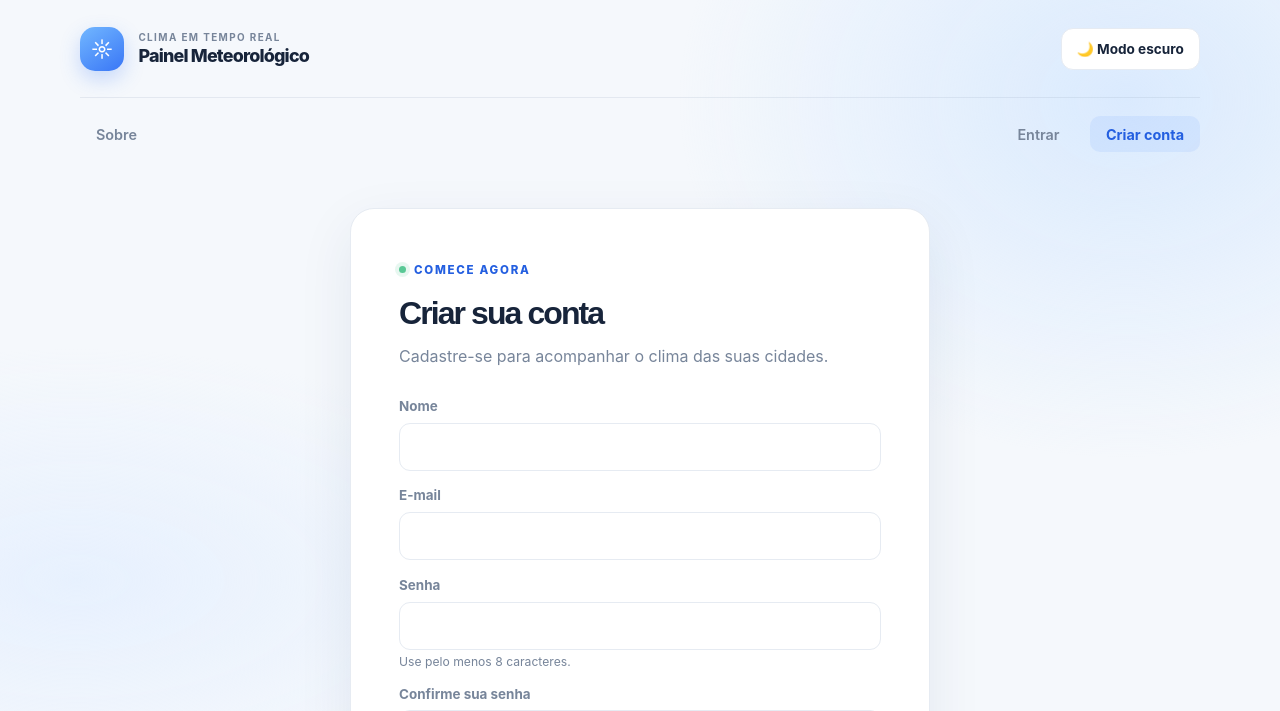
Test: Fluxo de autenticação (integração) › não envia cadastro quando as senhas são diferentes
Type "Pessoa Nova" into the field labelled "Nome".
click(640, 447); type("Pessoa Nova")  # box [399,423,881,471]
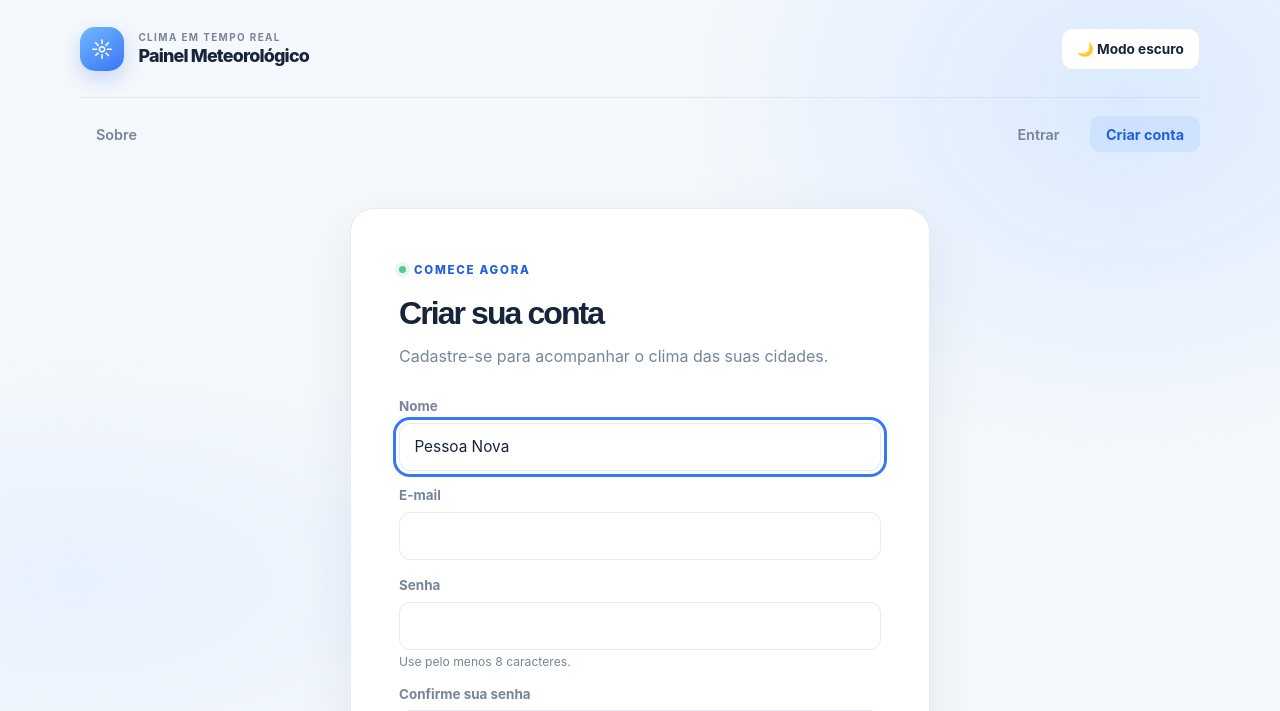
Type "nova@painel.com" into the field labelled "E-mail".
click(640, 536); type("nova@painel.com")  # box [399,512,881,560]
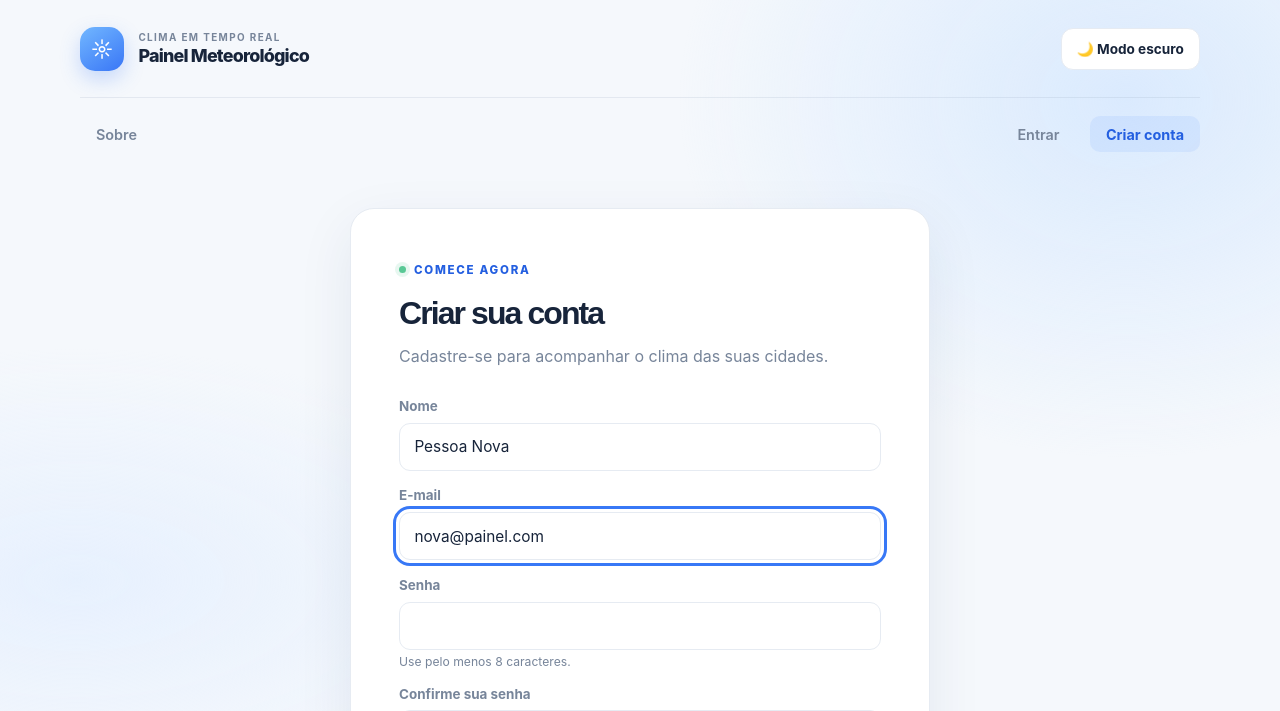
Type "senha-segura" into the password field labelled "Senha".
click(640, 626); type("senha-segura")  # box [399,602,881,650]
(page scrolled)
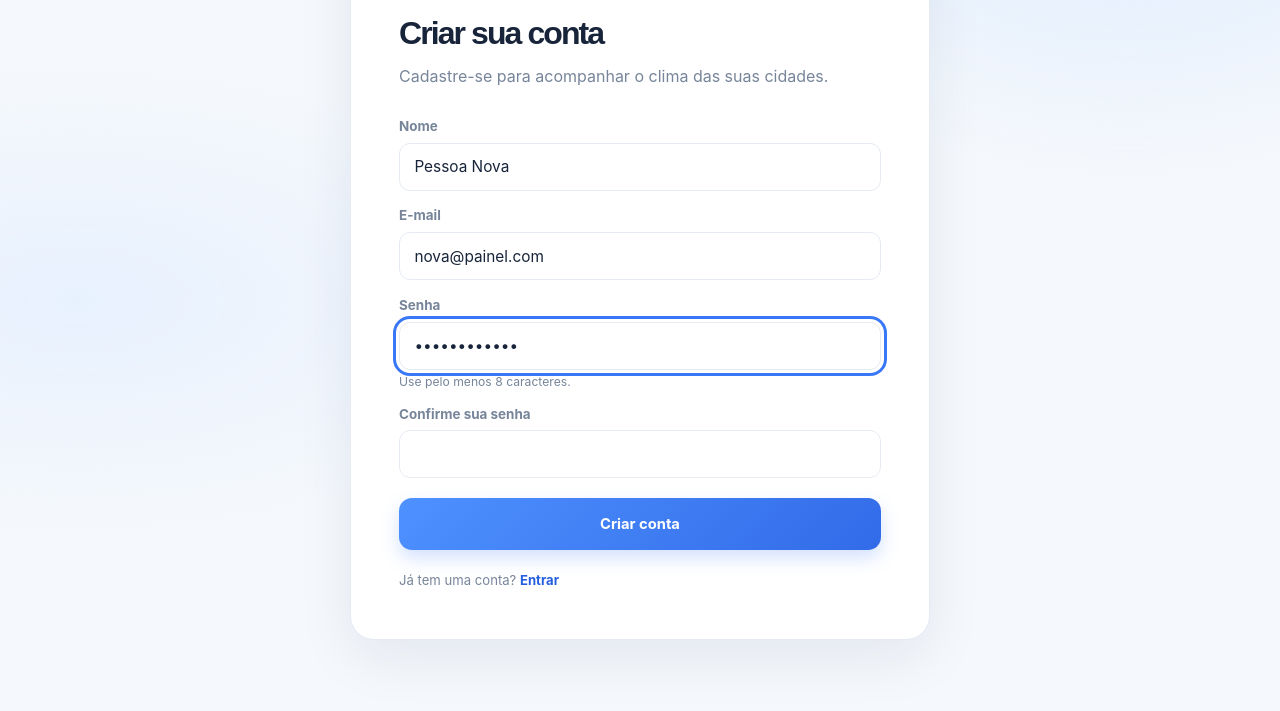
Type "outra-senha" into the password field labelled "Confirme sua senha".
click(640, 454); type("outra-senha")  # box [399,430,881,478]
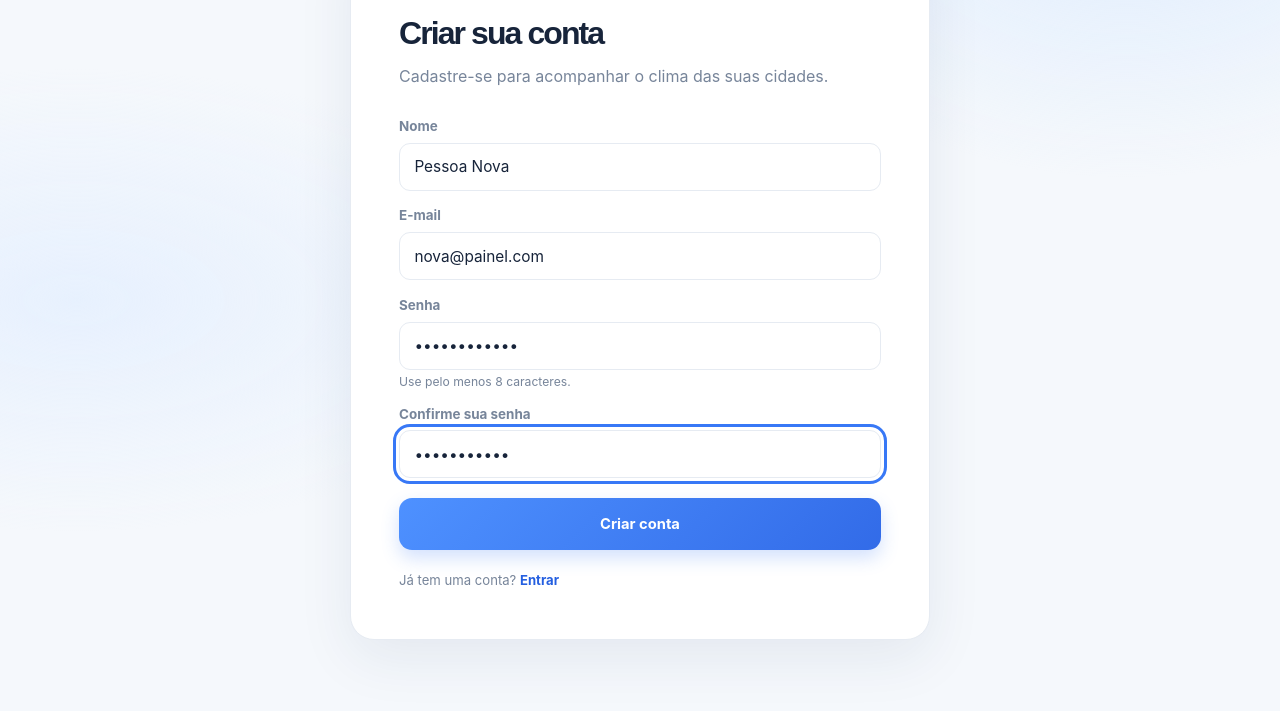
Click the button "Criar conta".
click(640, 524)  # box [399,498,881,550]
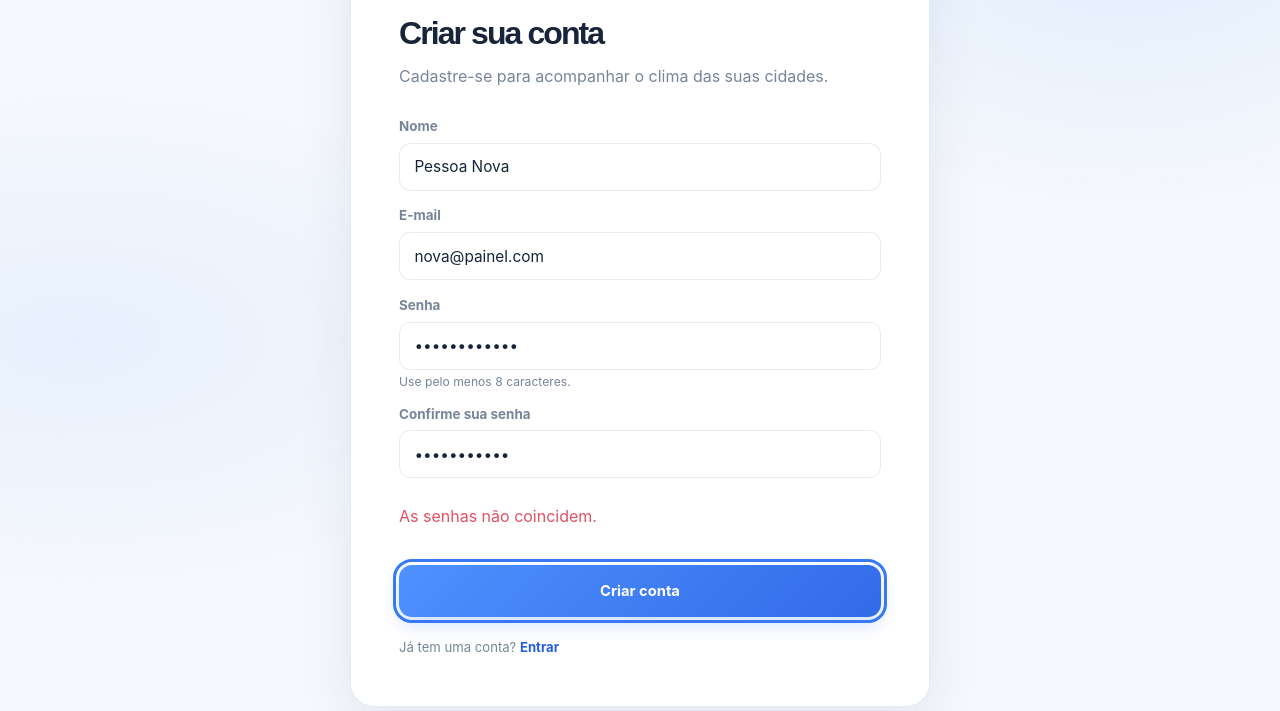
Expected: the message reads "As senhas não coincidem.", [399,506,597,526]
